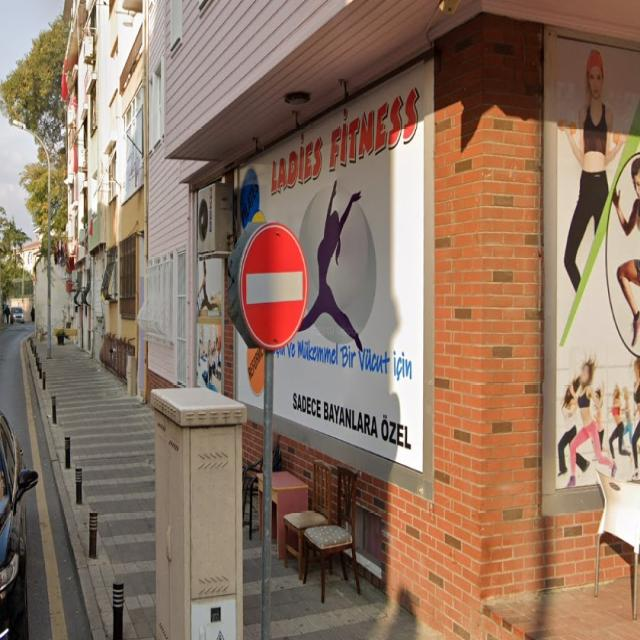girisyok: (240, 222, 306, 350)
